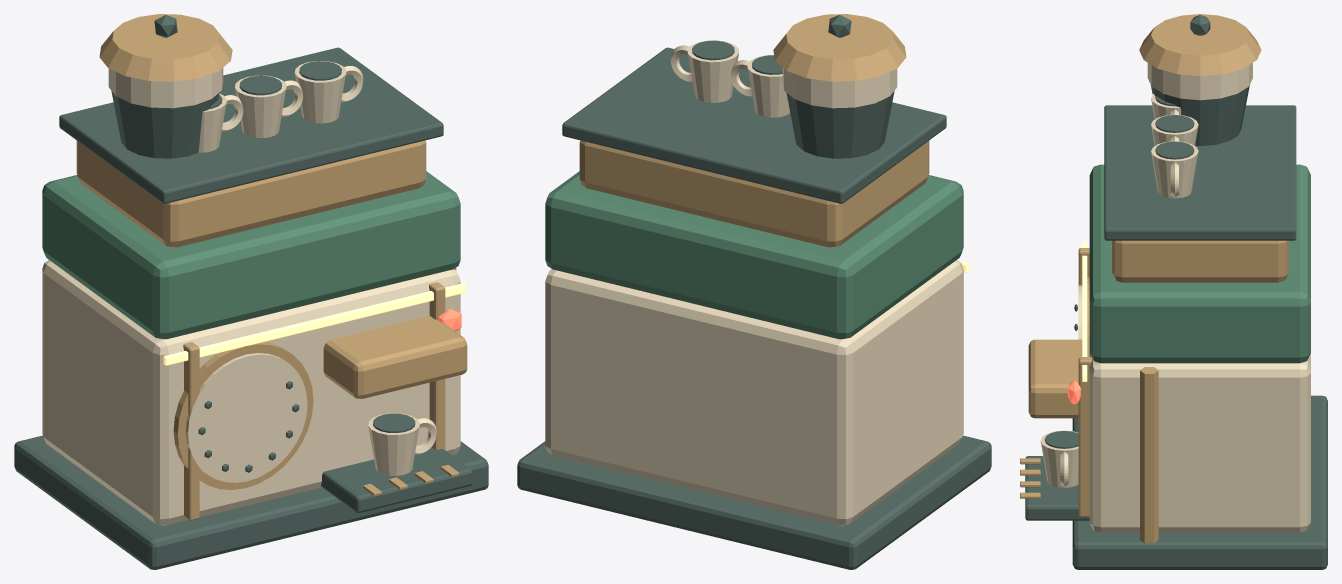
The model's file is common_machine_body.glb.
The picture shows the model from 3 angles, left to right: view 1: azimuth 30°, elevation 25°; view 2: azimuth 150°, elevation 25°; view 3: azimuth 270°, elevation 25°; orthographic projection. The views are drawn at different scales.
Visible parts, largest first — view 1: common_machine_body__common-ivory, common_machine_body__common-dark-timber, common_machine_body__common-brushed-brass, common_machine_body__common-sage, common_machine_body__machine-power-strip; view 2: common_machine_body__common-ivory, common_machine_body__common-dark-timber, common_machine_body__common-sage, common_machine_body__common-brushed-brass; view 3: common_machine_body__common-ivory, common_machine_body__common-dark-timber, common_machine_body__common-brushed-brass, common_machine_body__common-sage, common_machine_body__machine-power-strip.
Boxes of the visible parts, x1,y1,x2,y2 form: common_machine_body__common-ivory: [42, 61, 460, 525]; common_machine_body__common-dark-timber: [14, 15, 488, 569]; common_machine_body__common-brushed-brass: [76, 14, 467, 520]; common_machine_body__common-sage: [42, 171, 460, 339]; common_machine_body__machine-power-strip: [163, 283, 466, 365]; common_machine_body__common-ivory: [545, 40, 963, 525]; common_machine_body__common-dark-timber: [517, 15, 991, 569]; common_machine_body__common-sage: [545, 171, 963, 339]; common_machine_body__common-brushed-brass: [579, 14, 929, 247]; common_machine_body__common-ivory: [1040, 63, 1310, 532]; common_machine_body__common-dark-timber: [1025, 15, 1327, 569]; common_machine_body__common-brushed-brass: [1020, 14, 1288, 543]; common_machine_body__common-sage: [1089, 164, 1310, 363]; common_machine_body__machine-power-strip: [1082, 241, 1087, 381].
Bounding box in the file's own units: 2.13 × 2.88 × 1.81.
